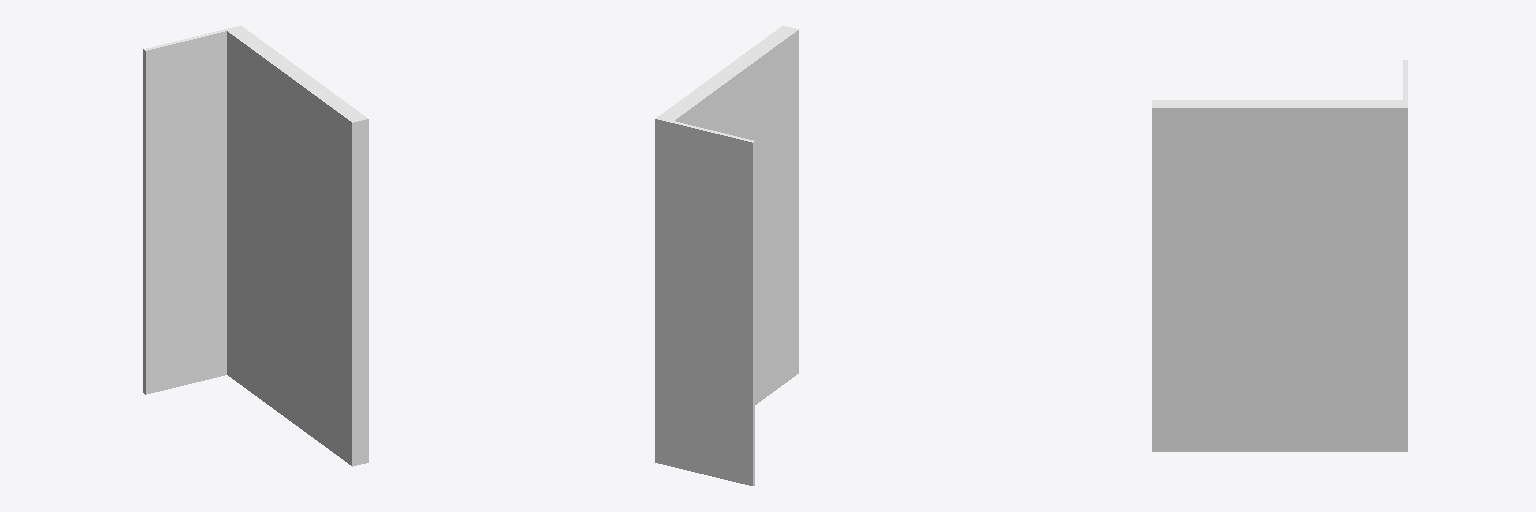
File: Wall_12.obj
3 renders of one model, left to right at view 1: azimuth 30°, elevation 25°; view 2: azimuth 150°, elevation 25°; view 3: azimuth 270°, elevation 25°, orthographic.
Parts seen in each view (by area): view 1: Mesh136_Group117_Model; view 2: Mesh136_Group117_Model; view 3: Mesh136_Group117_Model.
Part boxes in pixels (x1,y1,x2,y2): Mesh136_Group117_Model: (143,26,368,466); Mesh136_Group117_Model: (655,26,798,485); Mesh136_Group117_Model: (1152,60,1407,451).
Size of the model in its own units: 24.1 by 81 by 54.48.